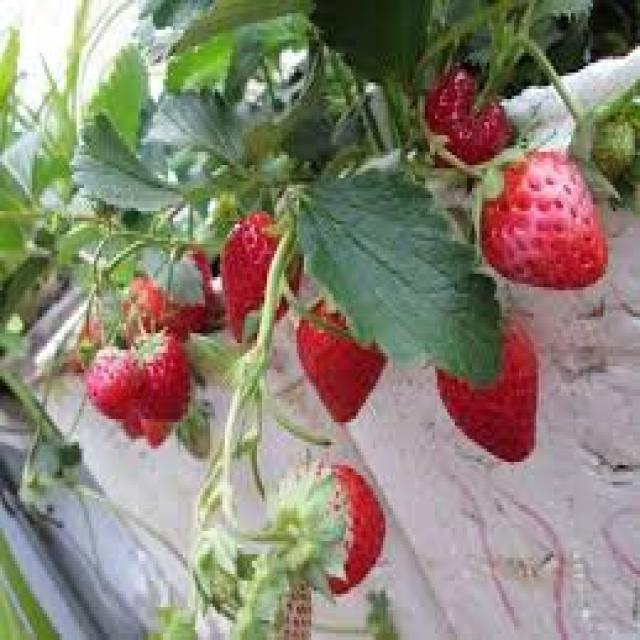Fruta sana: (474, 160, 618, 290), (434, 309, 542, 467), (288, 436, 392, 594), (294, 293, 394, 422), (221, 200, 302, 340), (417, 71, 512, 162), (135, 238, 211, 335), (135, 323, 190, 429), (72, 347, 146, 422)
